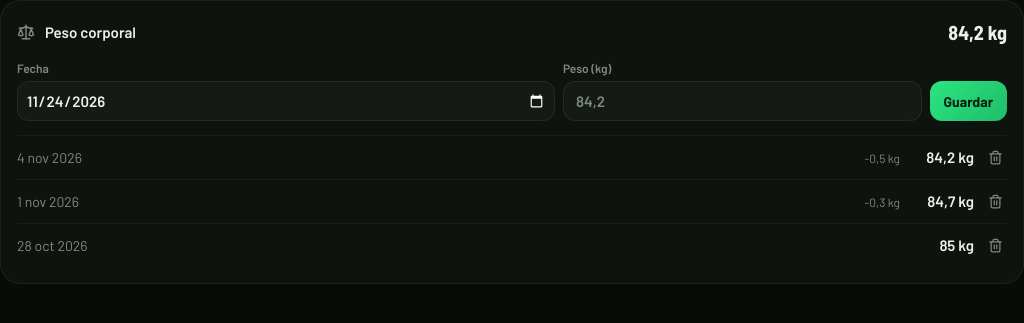
Scenario: BodyWeightCard › warns that saving replaces the weight already recorded that day
The width and height of the screenshot is (1024, 323).
Expected: the text named "Último peso" is shown, [948, 17, 1007, 47]
Type "2026-11-01" into the date field labelled "Fecha" at (286, 101), box [17, 81, 555, 121]
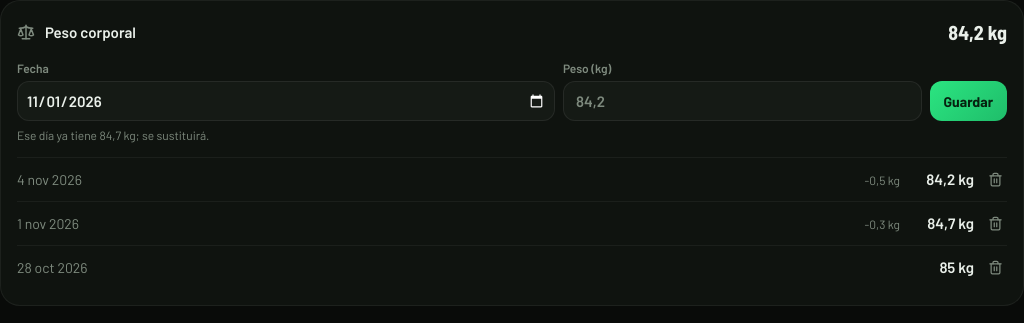
Now the text "Ese día ya tiene 84,7 kg; se sustituirá." is shown, box [17, 128, 209, 142]
